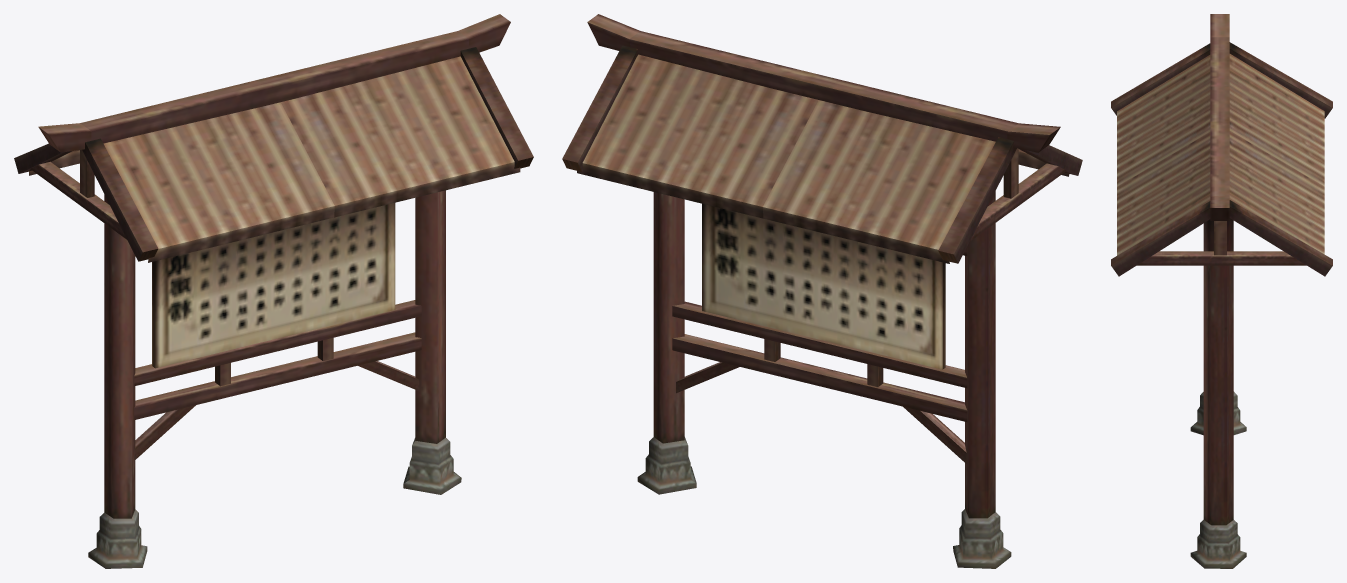
The model's file is gaoshipai.FBX.
3 renders of one model, left to right at view 1: azimuth 30°, elevation 25°; view 2: azimuth 150°, elevation 25°; view 3: azimuth 270°, elevation 25°, orthographic. The views are drawn at different scales.
Visible parts, largest first — view 1: 64; view 2: 64; view 3: 64.
Boxes of the visible parts, x1,y1,x2,y2 form: 64: (14, 14, 533, 568); 64: (562, 14, 1082, 568); 64: (1111, 14, 1332, 568).
Size of the model in its own units: 262 by 241 by 126.
Materials: 1 (1 with a texture image).
